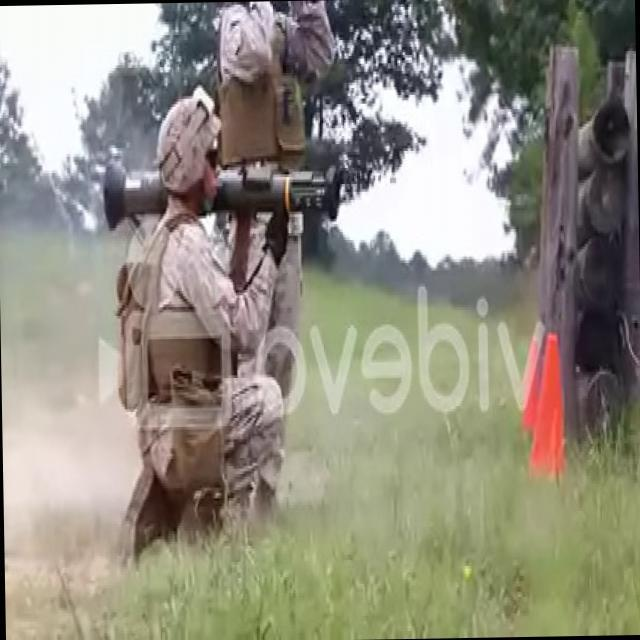rocket: (107, 158, 343, 232)
